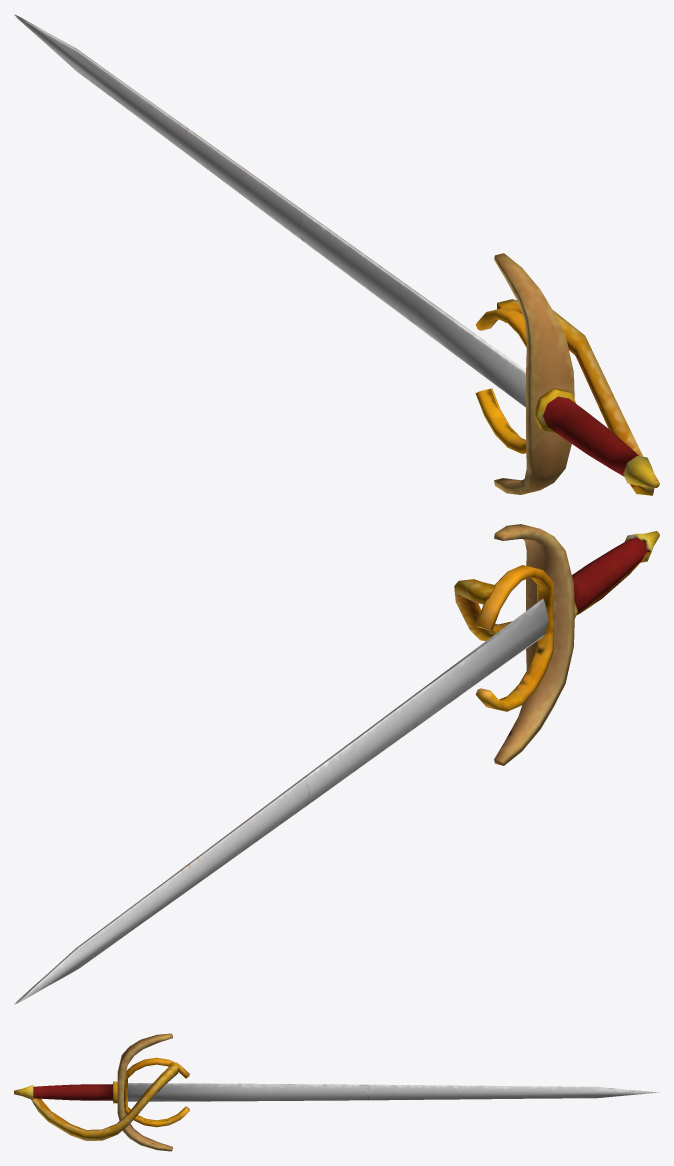
The model's file is Sword_07.fbx.
3 renders of one model, top to bottom at view 1: azimuth 30°, elevation 25°; view 2: azimuth 150°, elevation 25°; view 3: azimuth 270°, elevation 25°, orthographic. The views are drawn at different scales.
Visible parts, largest first — view 1: Sword_07; view 2: Sword_07; view 3: Sword_07.
Boxes of the visible parts, x1,y1,x2,y2 form: Sword_07: [14, 14, 659, 495]; Sword_07: [14, 524, 659, 1004]; Sword_07: [14, 1033, 659, 1151].
Size of the model in its own units: 35.03 by 81.55 by 412.
